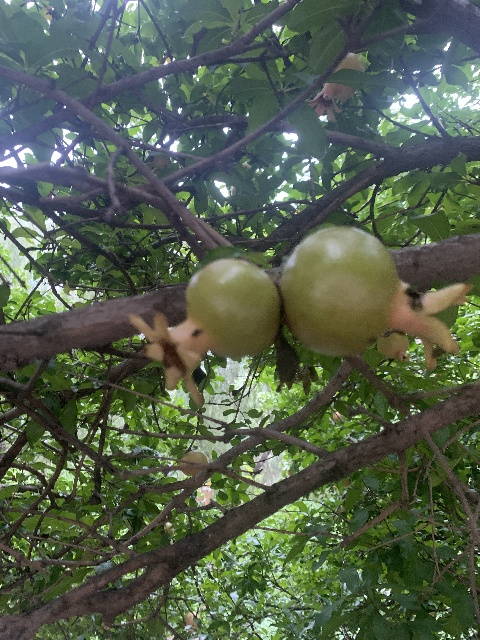mid-growth: (280, 226, 472, 370), (127, 257, 279, 406), (306, 53, 362, 122), (179, 450, 207, 476)
